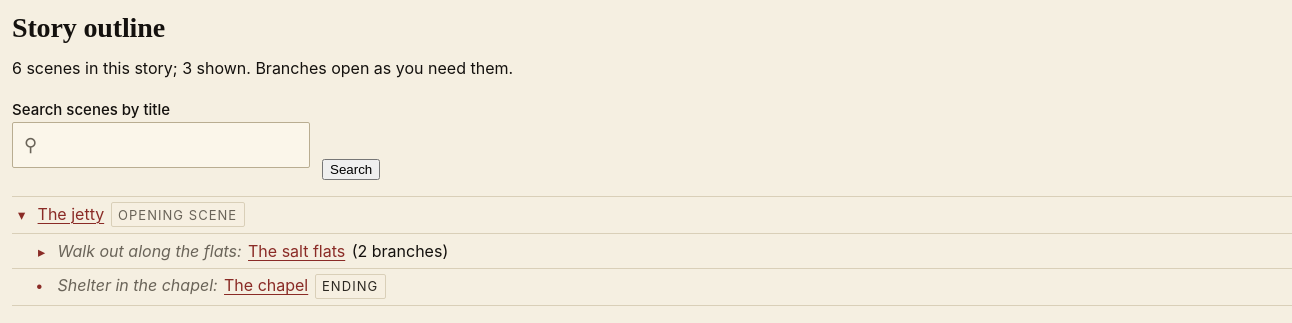
it: collapsing branches › unfolds it again without a second request
Expected: the link "The salt flats" is shown, [248,240,345,262]
Click the button with test id "outline-toggle" showing "▾" at {"x": 22, "y": 215}, box [12,207,31,223]
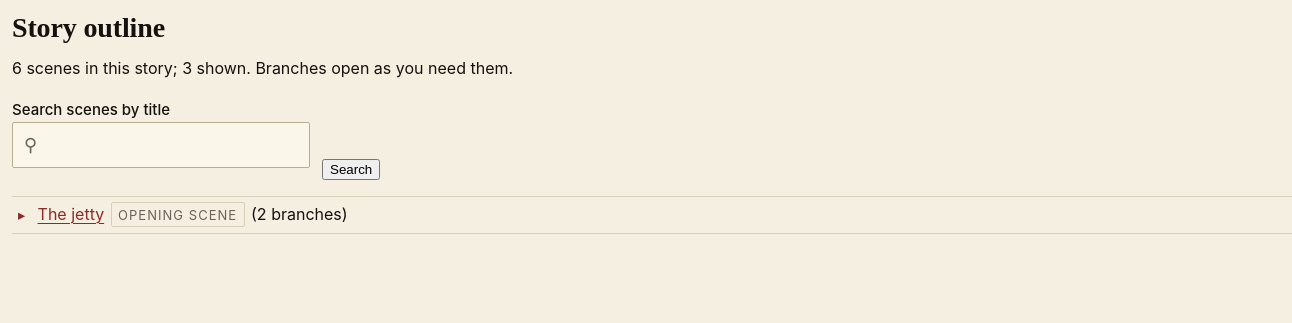
Click the button with test id "outline-toggle" at {"x": 22, "y": 215}, box [12,207,31,223]
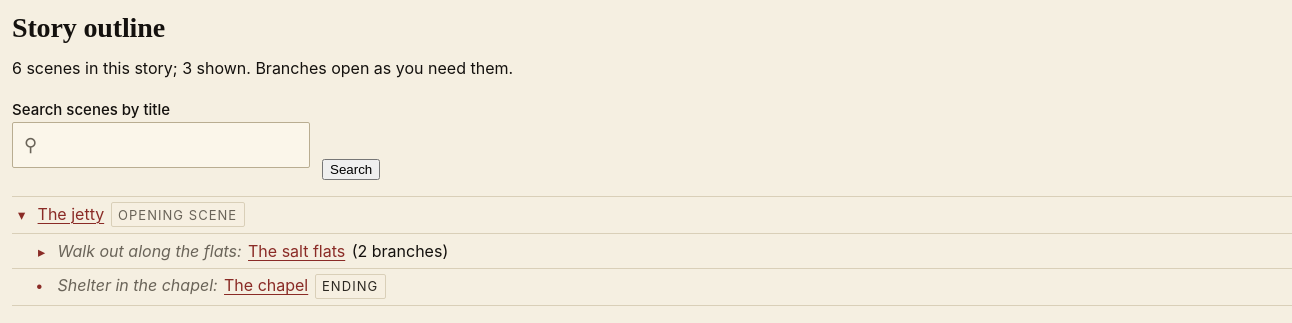
Now the link "The salt flats" is shown, box [248,240,345,262]
